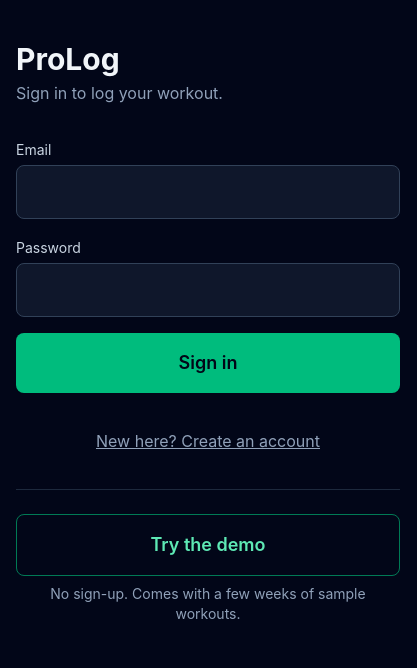
Test case: AuthScreen › shows an error when the demo cannot start
Click the button "Try the demo" at (208, 544), box [16, 514, 400, 576]
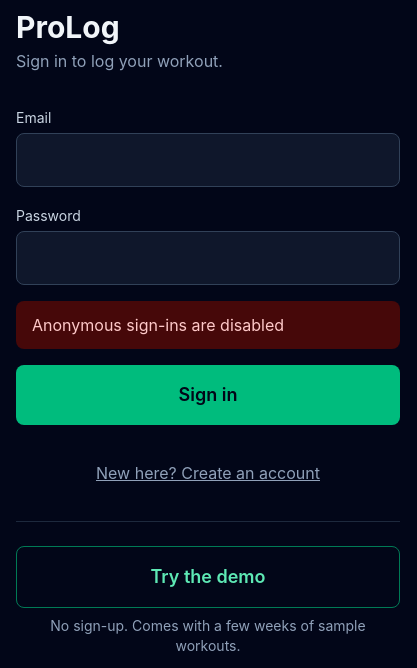
Check: the button "Try the demo" is enabled, box [16, 546, 400, 608]
Check: the message reads "Anonymous sign-ins are disabled", box [32, 314, 284, 334]
